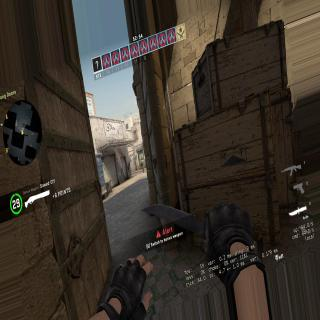CT-Body: (140, 160, 145, 173)
CT-Head: (142, 160, 143, 162)
